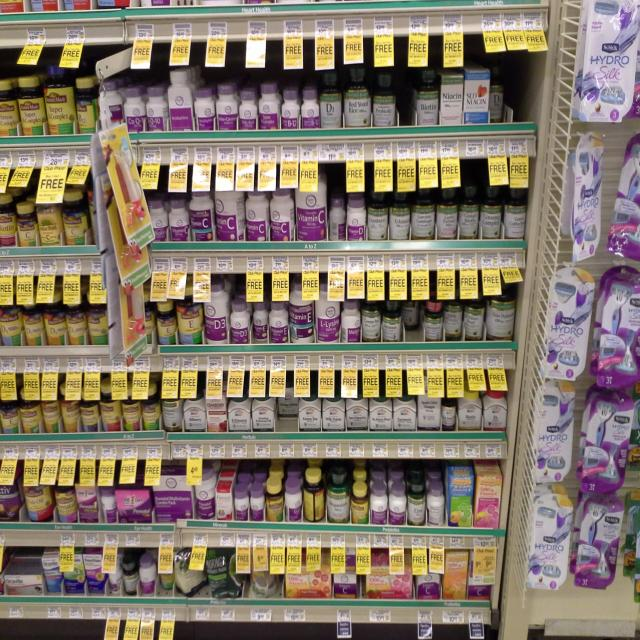unorganised: (275, 384, 298, 419), (329, 197, 345, 239), (490, 77, 505, 119), (403, 297, 421, 330), (157, 558, 175, 590)
